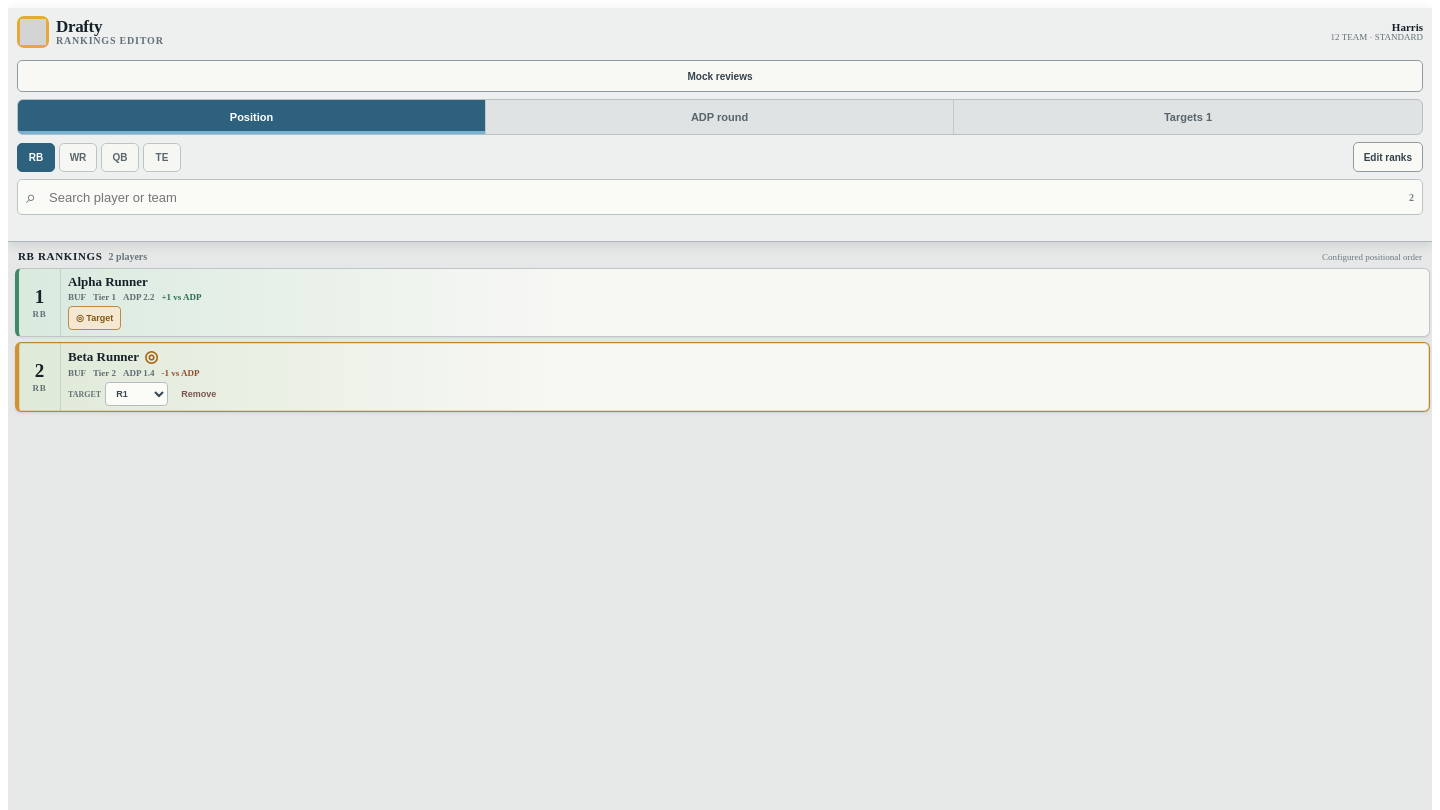
Test: mobile rankings editor › keeps only the three ranking views and edits ranks and targets in place
Expected: the navigation bar named "Mobile rankings views" is shown, [17,99,1423,135]
Expected: the button "Mock reviews" is shown, [17,60,1423,92]
Click the button "Edit ranks": [1388, 157] box [1353,142,1423,172]
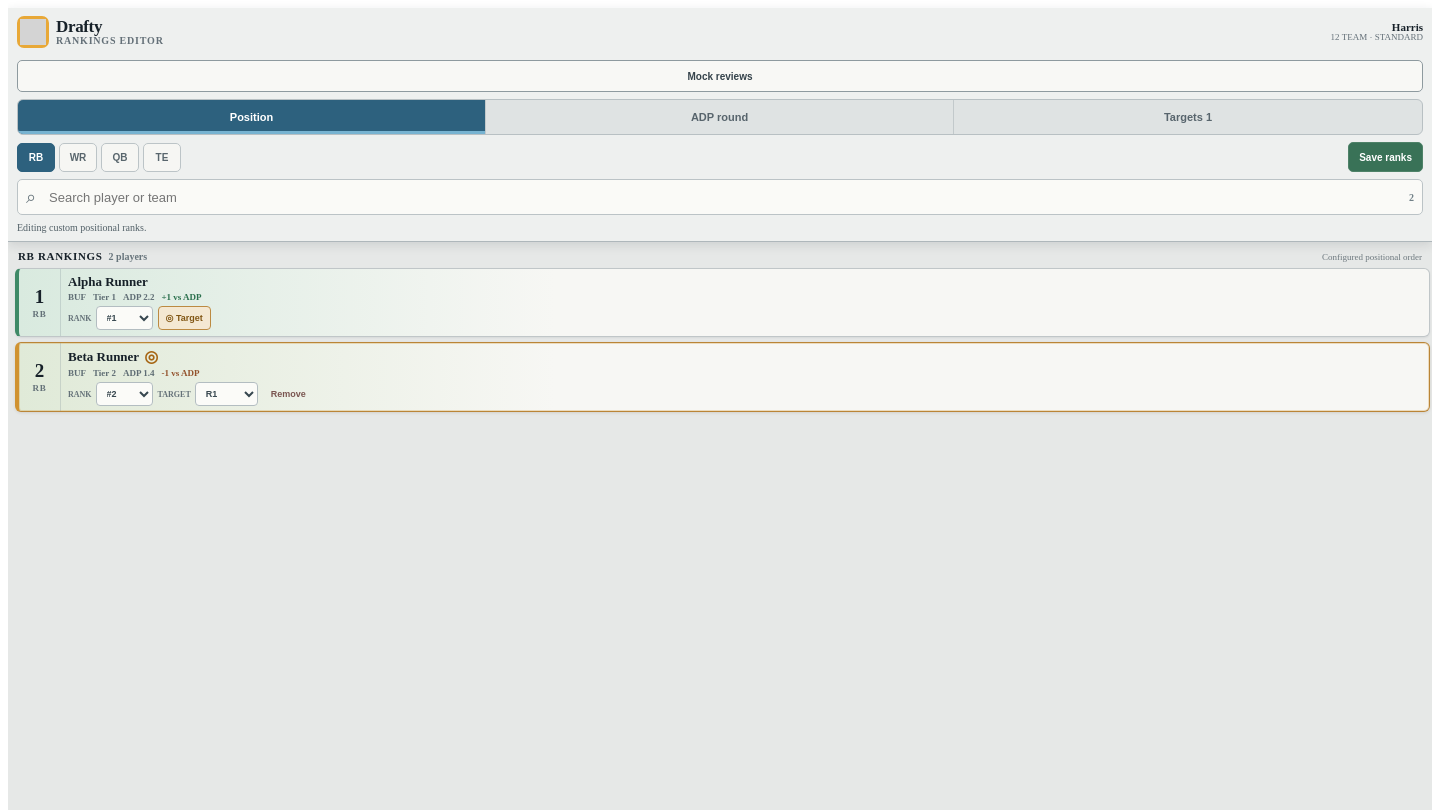
Select "#2" in the dropdown named "Move Alpha Runner to RB rank": [124, 318] box [96,306,153,330]
Click the button "Save ranks": [1386, 157] box [1348,142,1423,172]
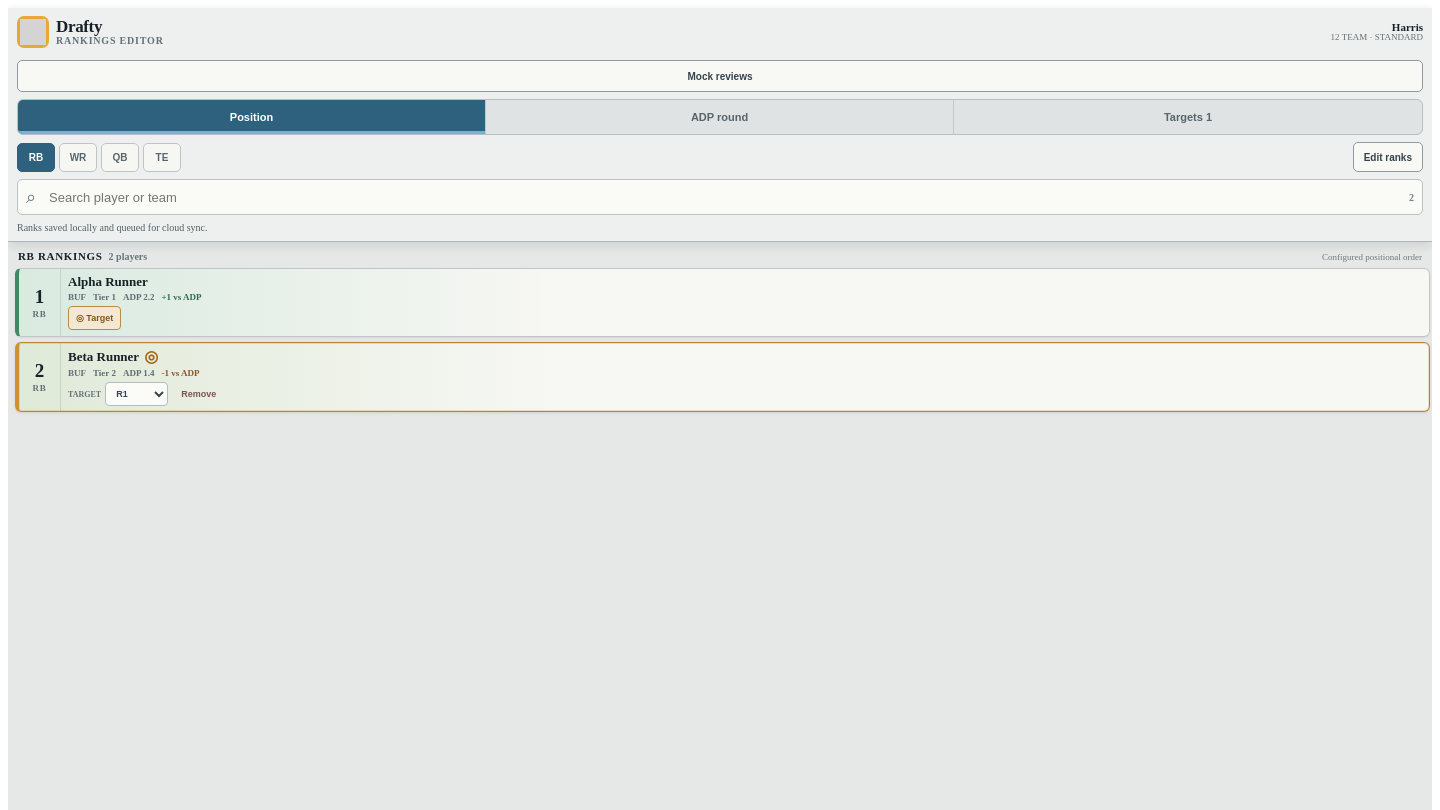
Click the button "◎ Target": [95, 318] box [68,306,121,330]
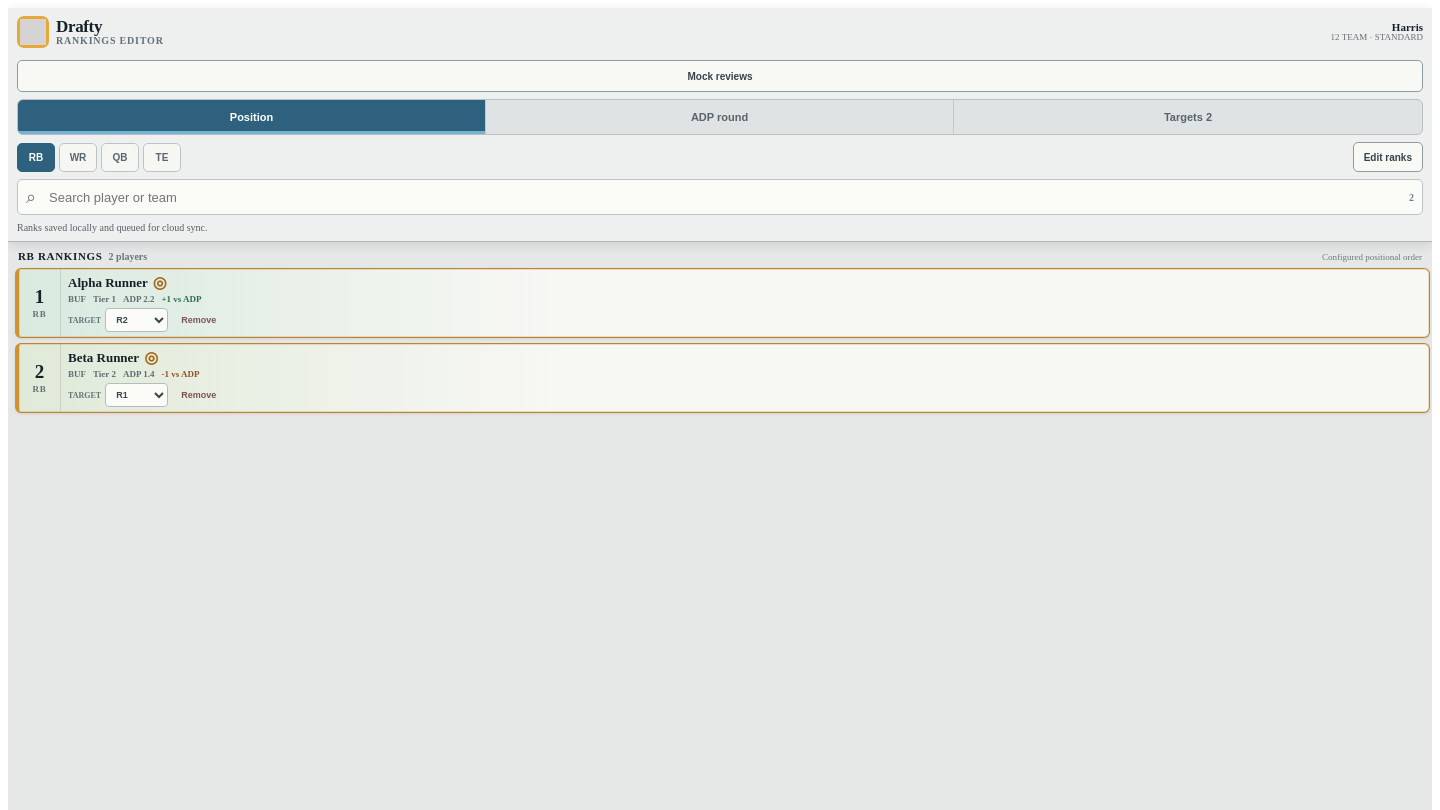
Result: the button "Targets 2" is shown
Click the button "Targets 2": [1188, 117] box [954,100,1422,134]
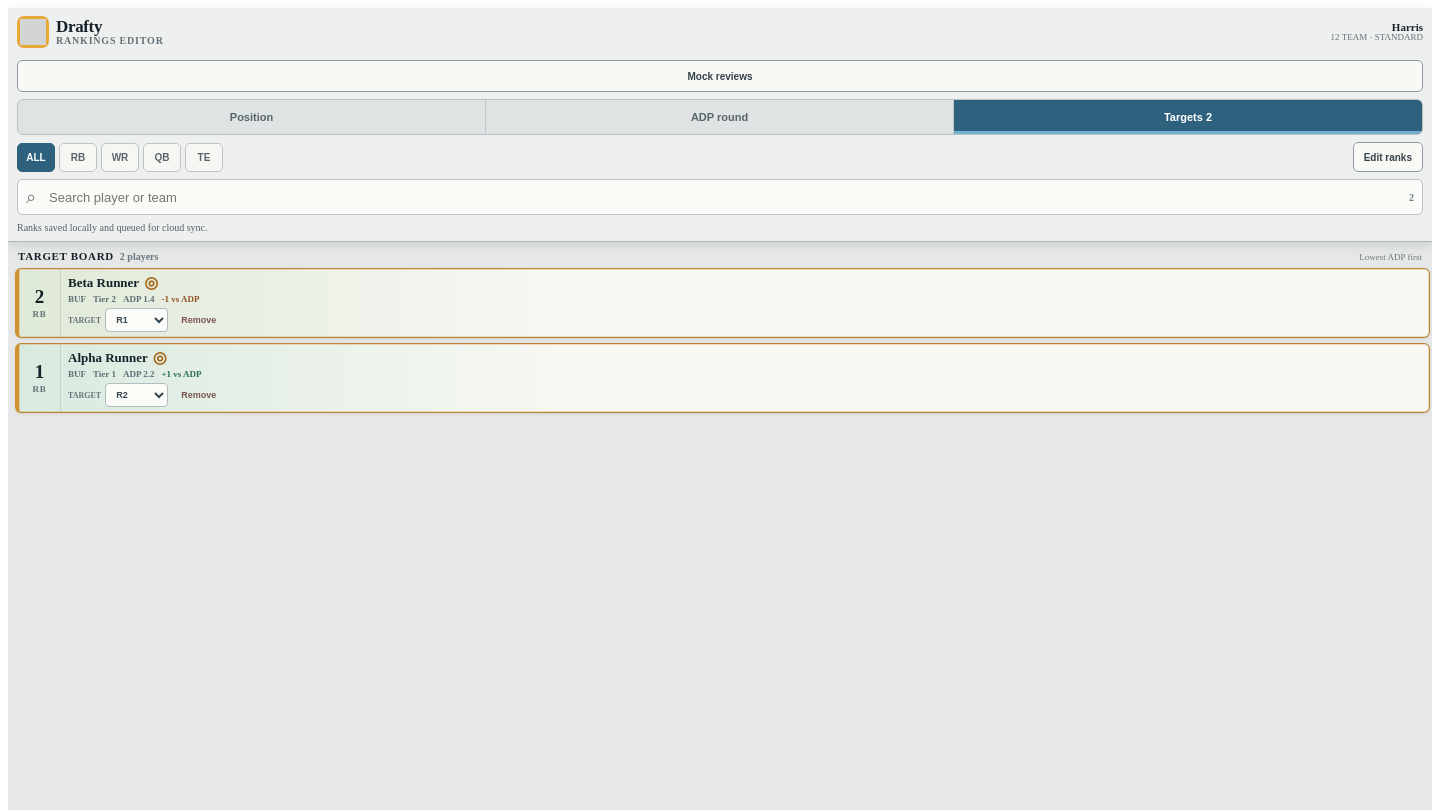
Select "R3" in the dropdown named "Move Beta Runner target round": [137, 320] box [105,308,168,332]
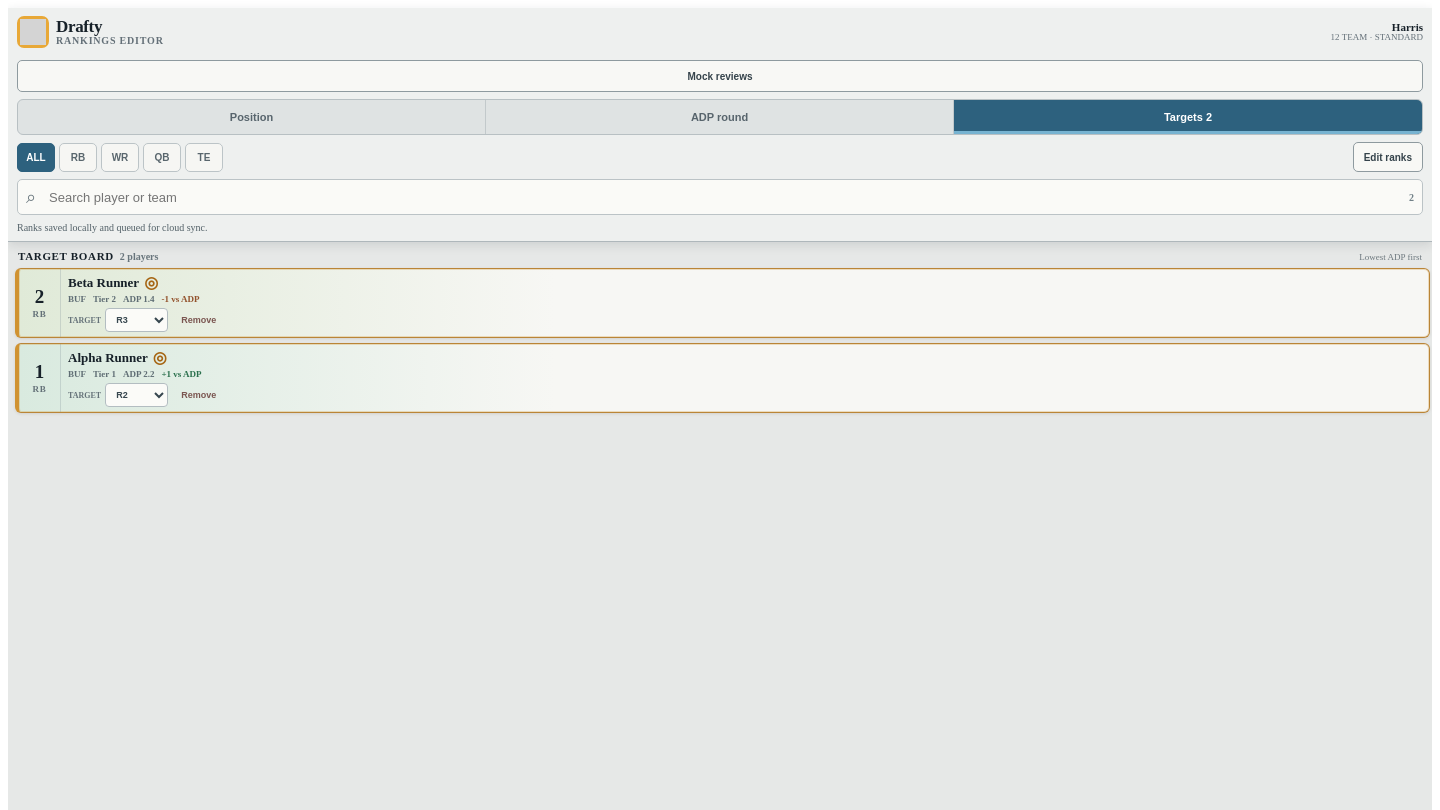
Result: the element named "Beta Runner, RB rank 2, target round 3" is shown at [15,268,1430,338]
